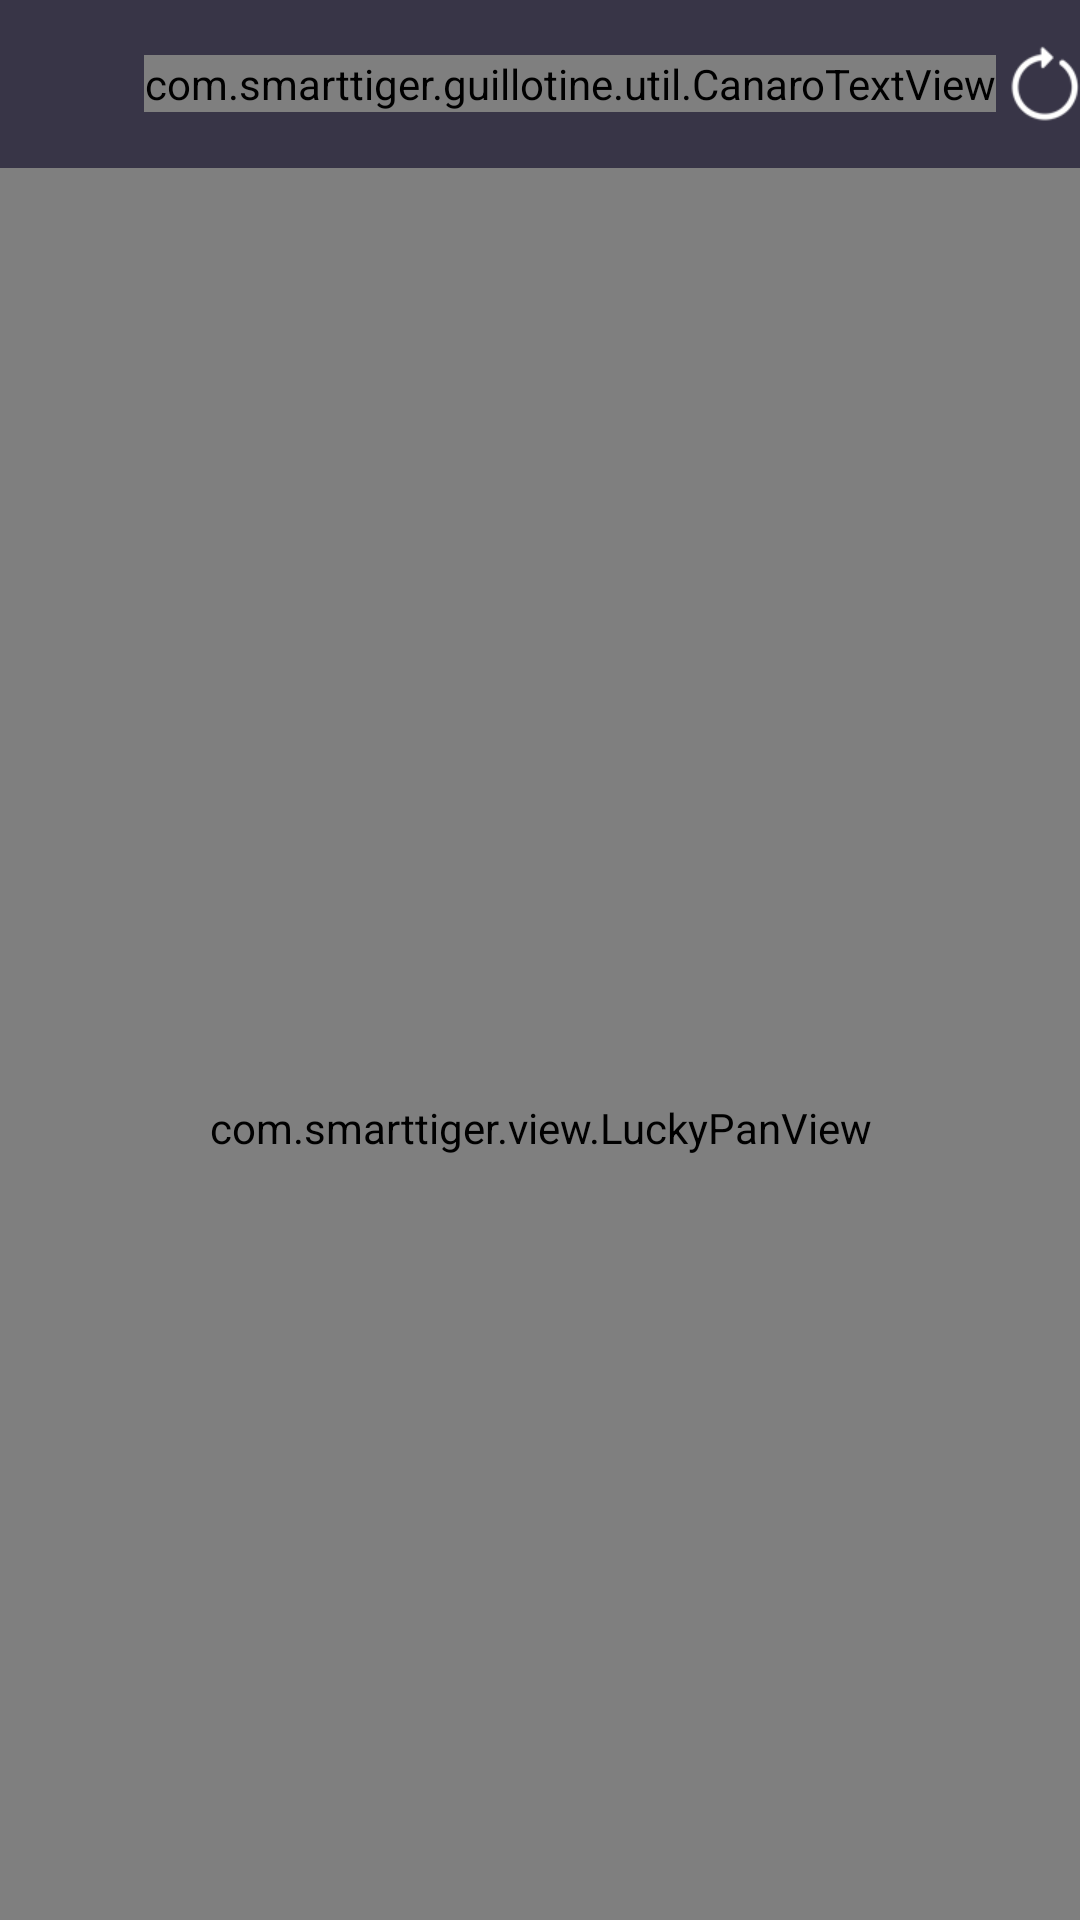

Where to tap for icons on this 1080×1920 app screen, as [x,y]:
reload: [1045,84]
